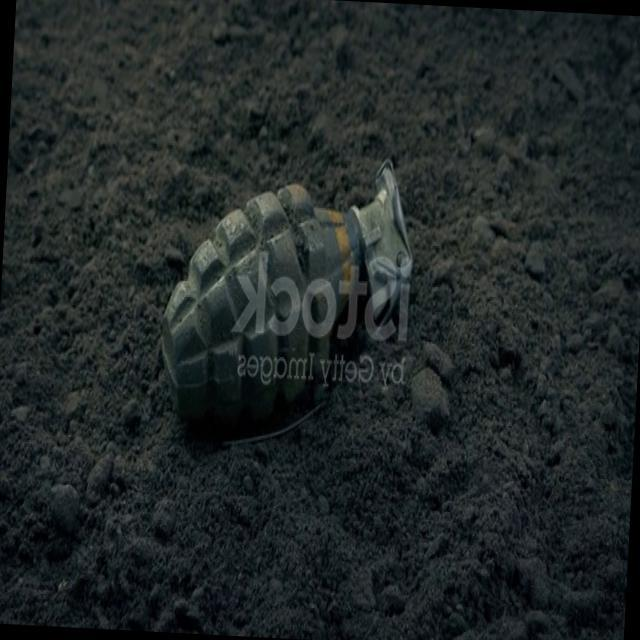grenade: (150, 134, 422, 456)
